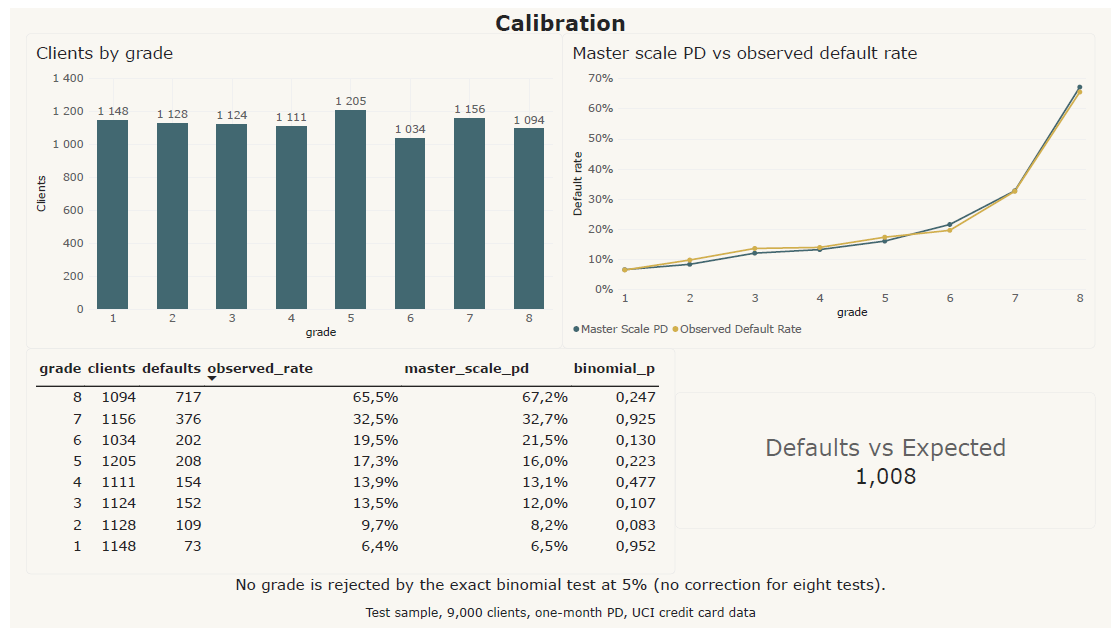

The page's visual inventory and layout, read from the dashboard file:
{"tool":"powerbi","page":{"name":"Calibration","canvas":[1920,1080],"ordinal":1},"visuals":[{"type":"clusteredColumnChart","title":"Clients by grade","fields":{"Category":["dim_grade.grade"],"Y":["fact_portfolio.Clients"]},"box":[26.7,43.3,936.7,550],"z":0},{"type":"lineChart","title":"Master scale PD vs observed default rate","fields":{"Category":["dim_grade.grade"],"Y":["fact_portfolio.Master Scale PD","fact_portfolio.Observed Default Rate"]},"box":[963.3,43.3,930,550],"z":1000},{"type":"textbox","box":[0,0,1920,83.3],"z":2000},{"type":"textbox","box":[0,1040,1920,40],"z":3000},{"type":"textbox","box":[0,986.7,1920,53.3],"z":4000},{"type":"tableEx","fields":{"Values":["dim_grade.grade","dim_grade.clients","dim_grade.defaults","dim_grade.observed_rate","dim_grade.master_scale_pd","dim_grade.binomial_p"]},"box":[26.7,593.3,1133.3,393.3],"z":5000},{"type":"cardVisual","fields":{"Data":["fact_portfolio.Defaults vs Expected"]},"box":[1160,670,733.3,236.7],"z":6000}]}

Visuals, with their boxes in screenshot pixels (x1, y1, x2, y2), scaled from the page's 1920x1080 canvas onto the 1120x636 screenshot:
"Clients by grade" clusteredColumnChart: {"x1": 16, "y1": 25, "x2": 562, "y2": 349}
"Master scale PD vs observed default rate" lineChart: {"x1": 562, "y1": 25, "x2": 1104, "y2": 349}
textbox: {"x1": 0, "y1": 0, "x2": 1119, "y2": 49}
textbox: {"x1": 0, "y1": 612, "x2": 1119, "y2": 635}
textbox: {"x1": 0, "y1": 581, "x2": 1119, "y2": 612}
tableEx - dim_grade.grade x dim_grade.clients: {"x1": 16, "y1": 349, "x2": 677, "y2": 581}
cardVisual - fact_portfolio.Defaults vs Expected: {"x1": 677, "y1": 395, "x2": 1104, "y2": 534}
